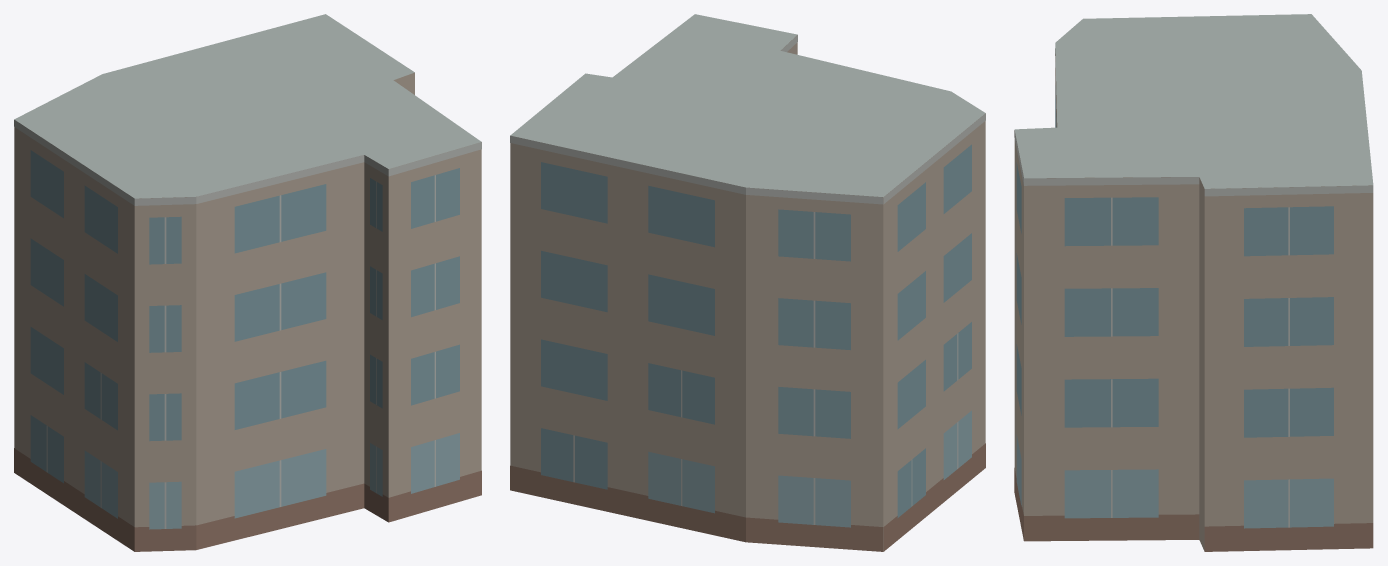
The model's file is survey-upis-32843242.glb.
3 renders of one model, left to right at view 1: azimuth 30°, elevation 25°; view 2: azimuth 150°, elevation 25°; view 3: azimuth 270°, elevation 25°, orthographic. The views are drawn at different scales.
Parts seen in each view (by area): view 1: survey-upis-32843242.tmp; view 2: survey-upis-32843242.tmp; view 3: survey-upis-32843242.tmp.
Boxes of the visible parts, left/top/right/bottom form: survey-upis-32843242.tmp: left=14, top=14, right=481, bottom=551; survey-upis-32843242.tmp: left=510, top=14, right=985, bottom=551; survey-upis-32843242.tmp: left=1014, top=14, right=1373, bottom=551.
Bounding box in the file's own units: 12.15 × 11.75 × 10.54.
